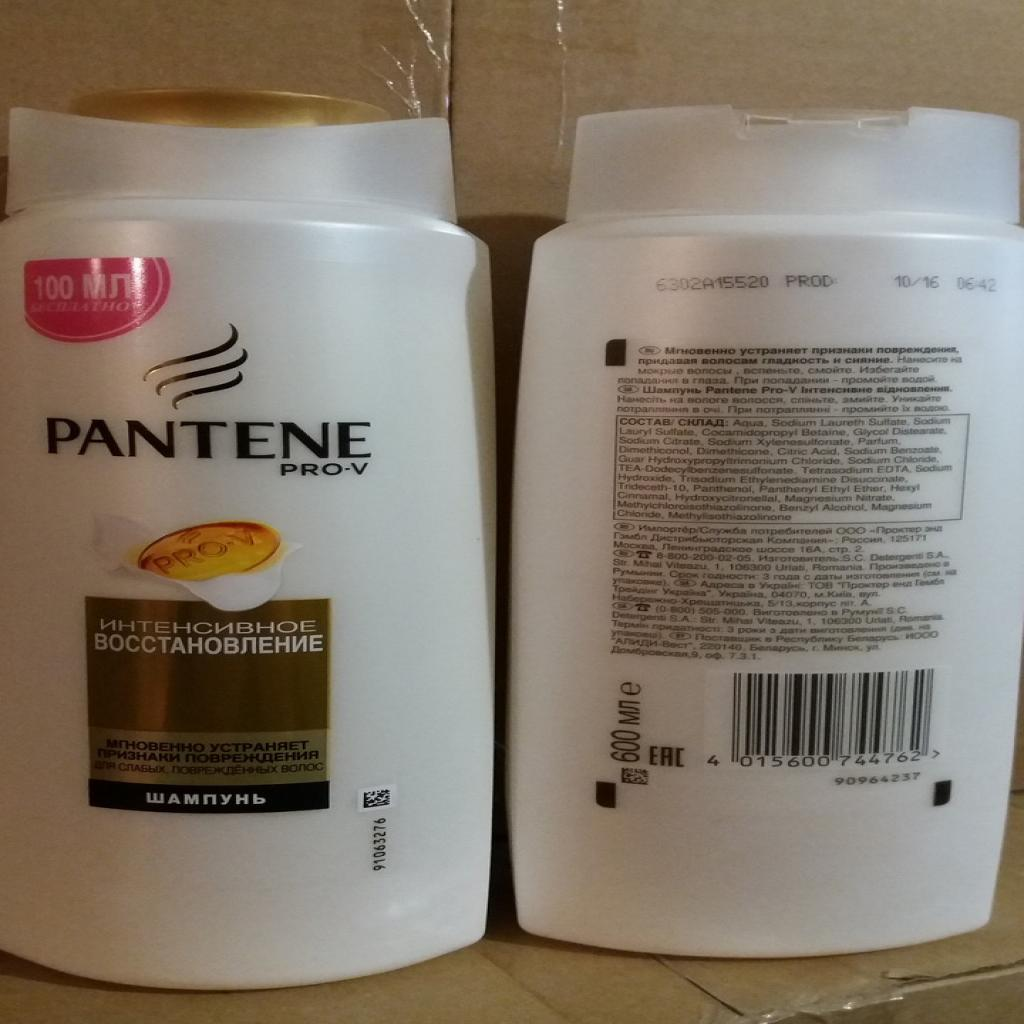organico: (504, 86, 1024, 970), (0, 84, 499, 999)
